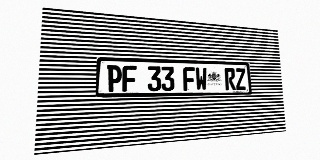3: (148, 66, 161, 91), (161, 66, 174, 91)
F: (122, 65, 137, 92), (183, 67, 195, 91)
P: (107, 65, 122, 92)
R: (224, 68, 236, 90)
W: (195, 67, 207, 91)
Z: (235, 68, 246, 90)
